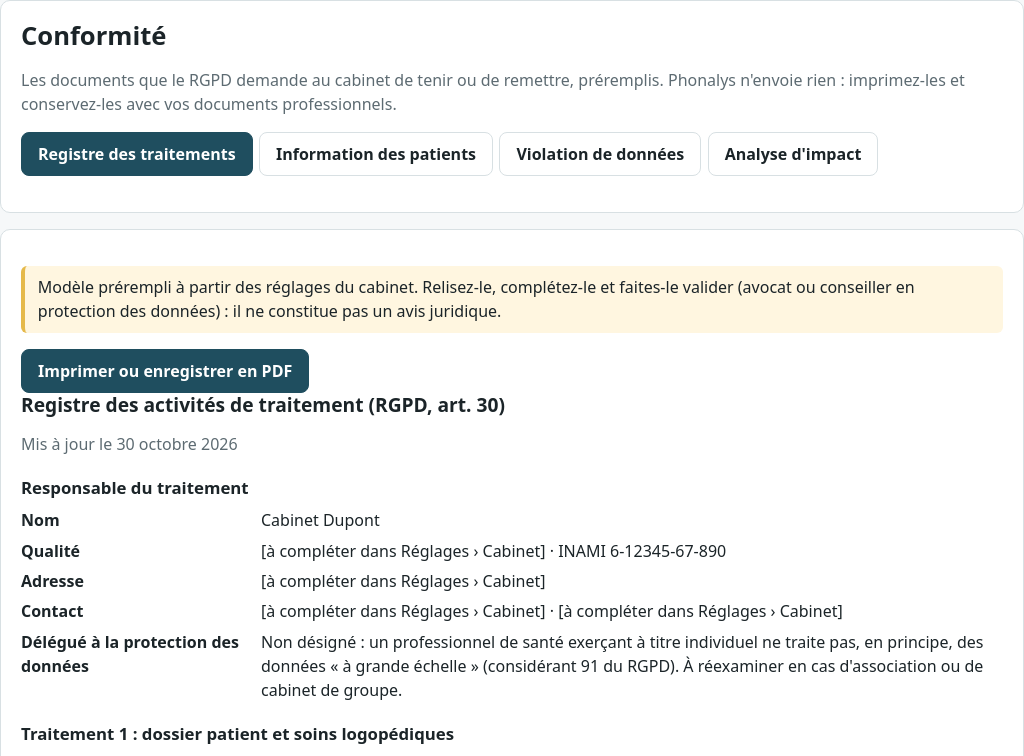
Test: conformité › préremplit le registre avec les coordonnées du cabinet et signale les manques
The image size is (1024, 756).
Expected: the text "[à compléter dans Réglages › Cabinet] · INAMI 6-12345-67-890" is shown, [261,540,726,562]
Step 1. Click the tab "Violation de données" → [600, 154], box [499,132,701,176]
(page scrolled)
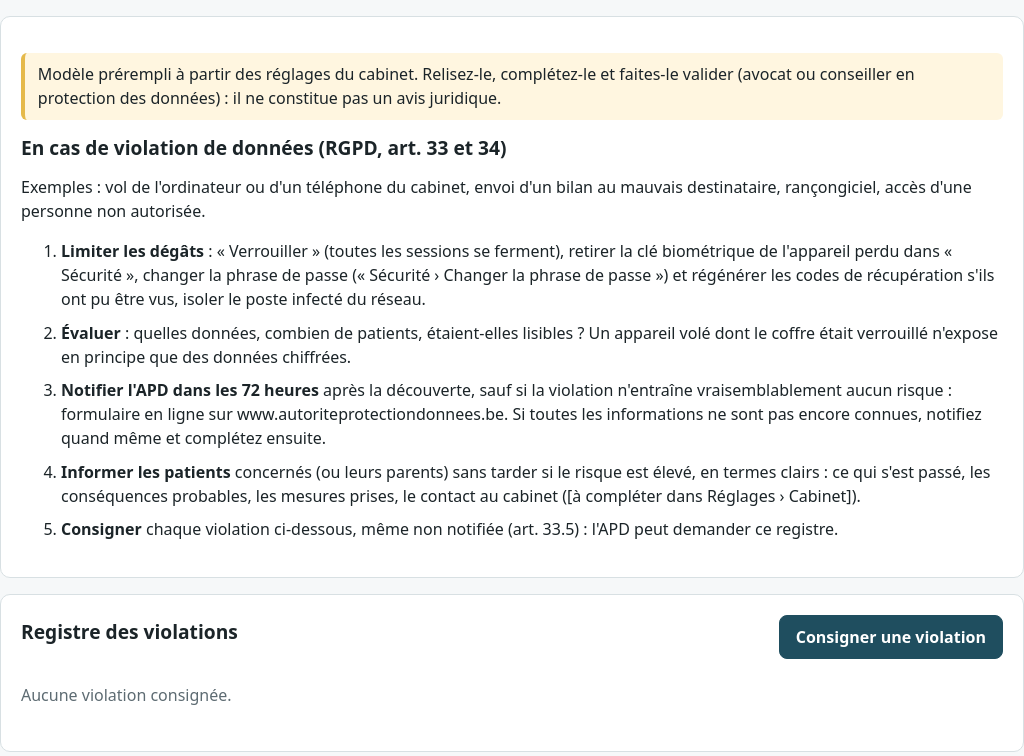
Result: the text "Aucune violation consignée." is shown at [21,684,232,706]
